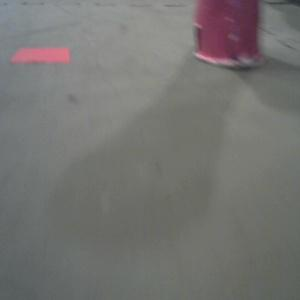right: (190, 1, 263, 70)
